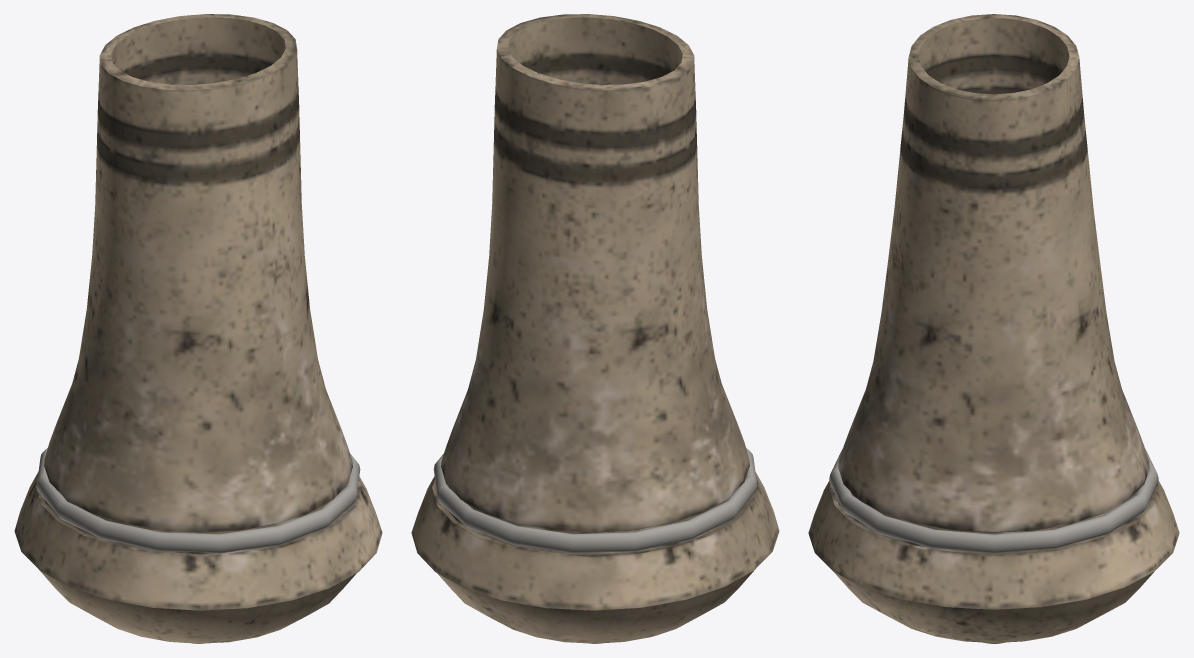
Rendered from wm_swan_knight_sword_a_pommel.fbx.
3 views of the same model, side by side, from view 1: azimuth 30°, elevation 25°; view 2: azimuth 150°, elevation 25°; view 3: azimuth 270°, elevation 25° (orthographic).
Visible parts, largest first — view 1: wm_swan_knight_sword_a_pommel; view 2: wm_swan_knight_sword_a_pommel; view 3: wm_swan_knight_sword_a_pommel.
Boxes of the visible parts, x1,y1,x2,y2 form: wm_swan_knight_sword_a_pommel: (14, 14, 382, 643); wm_swan_knight_sword_a_pommel: (411, 14, 779, 643); wm_swan_knight_sword_a_pommel: (808, 14, 1179, 643).
Bounding box in the file's own units: 0.0534 × 0.0546 × 0.0941.
Materials: 1 (1 with a texture image).
